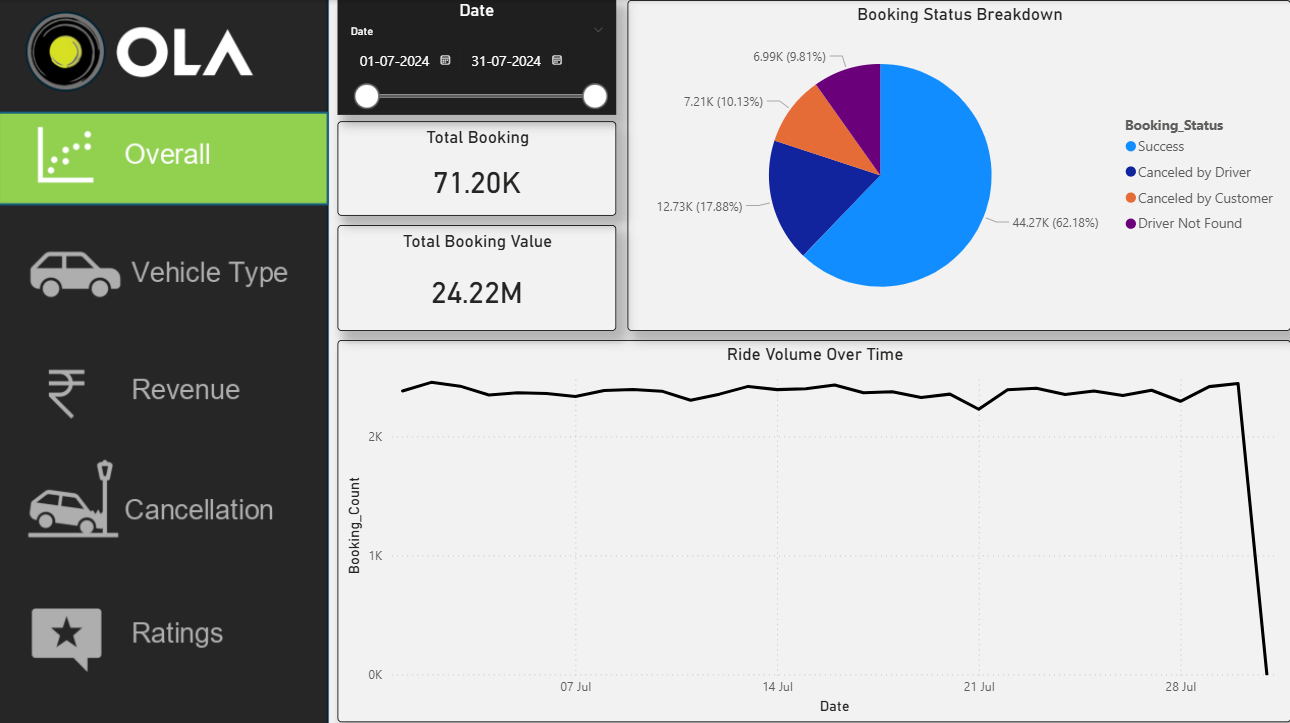

The page's visual inventory and layout, read from the dashboard file:
{"tool":"powerbi","page":{"name":"overall","canvas":[1280,720],"ordinal":0},"visuals":[{"type":"actionButton","box":[0,220.9,322.7,90.8],"z":0},{"type":"actionButton","box":[0,333.7,322.7,90.8],"z":1000},{"type":"actionButton","box":[0,449.1,322.7,92],"z":2000},{"type":"actionButton","box":[0,586.5,322.7,78.5],"z":3000},{"type":"lineChart","title":"Ride Volume Over Time","fields":{"Y":["CountNonNull(July.Booking_ID)"],"Category":["July.Date"]},"box":[331.2,333.8,936.2,375],"z":4000},{"type":"pieChart","title":" Booking Status Breakdown","fields":{"Category":["July.Booking_Status"],"Y":["CountNonNull(July.Booking_ID)"]},"box":[616.2,0,651.2,325],"z":5000},{"type":"slicer","title":"Date","fields":{"Values":["July.Date"]},"box":[331.3,0,273.6,112.9],"z":6000},{"type":"card","title":"Total Booking","fields":{"Values":["Count(July.Booking_ID)"]},"box":[331.2,118.8,273.8,92.5],"z":7000},{"type":"card","title":"Total Booking Value","fields":{"Values":["Sum(July.Booking_Value)"]},"box":[331.2,221.2,273.8,103.8],"z":8000}]}

Visuals, with their boxes in screenshot pixels (x1, y1, x2, y2), scaled from the page's 1280x720 canvas onto the 1290x723 screenshot:
actionButton: (0,222,325,313)
actionButton: (0,335,325,426)
actionButton: (0,451,325,543)
actionButton: (0,589,325,668)
"Ride Volume Over Time" lineChart: (334,335,1277,712)
" Booking Status Breakdown" pieChart: (621,0,1277,326)
"Date" slicer: (334,0,610,113)
"Total Booking" card: (334,119,610,212)
"Total Booking Value" card: (334,222,610,326)
